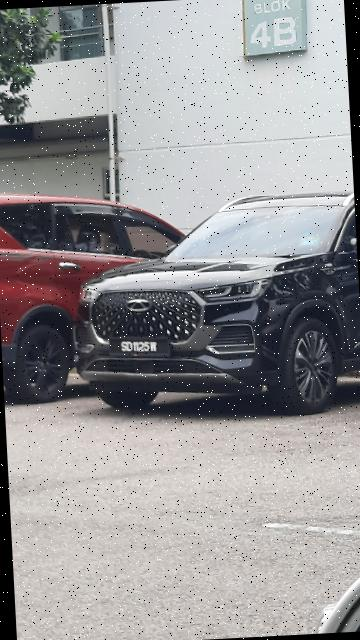License_Plate: (108, 332, 178, 365)
car: (62, 188, 360, 427)
